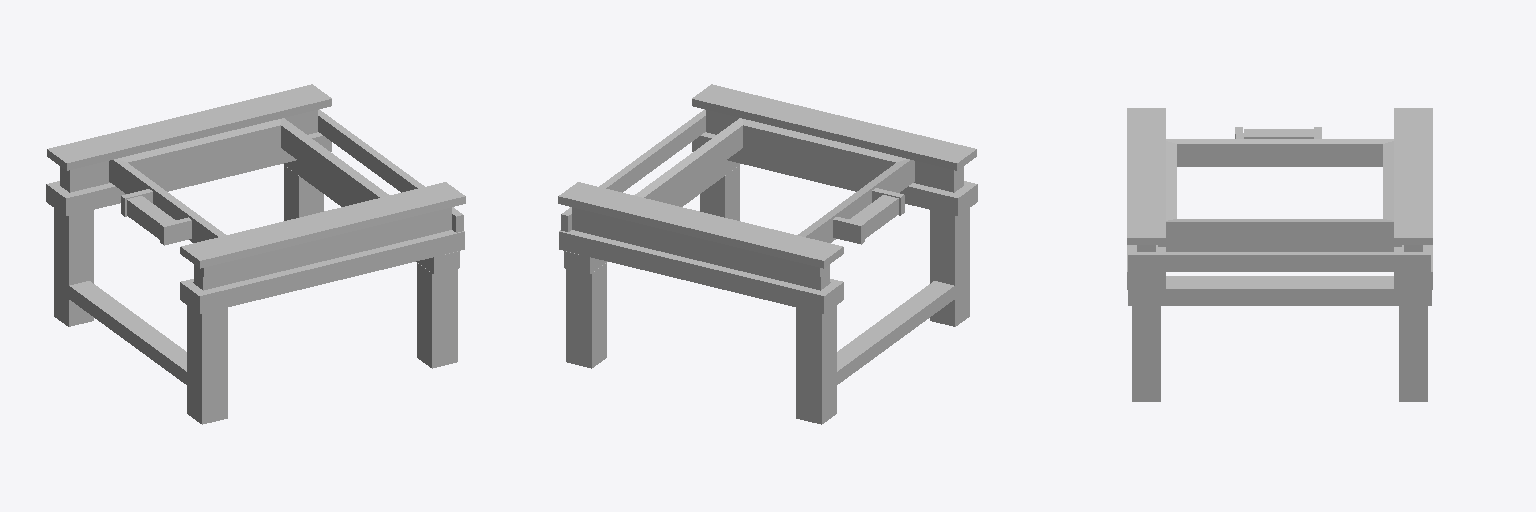
The model's file is mechanical_sieve.obj.
3 views of the same model, side by side, from view 1: azimuth 30°, elevation 25°; view 2: azimuth 150°, elevation 25°; view 3: azimuth 270°, elevation 25° (orthographic).
Visible parts, largest first — view 1: base, sieve.002; view 2: base, sieve.002; view 3: base, sieve.002.
Part boxes in pixels (x1,y1,x2,y2): base: (46, 84, 465, 424); sieve.002: (109, 118, 389, 245); base: (558, 84, 977, 424); sieve.002: (634, 118, 914, 244); base: (1127, 108, 1432, 401); sieve.002: (1158, 127, 1401, 246).
Bounding box in the file's own units: 1 × 0.5994 × 1.